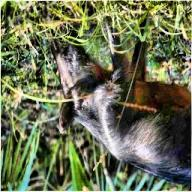boar: (48, 20, 191, 187)
